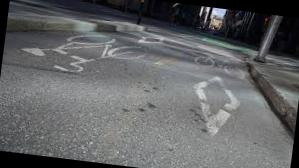faded_road_lines: (12, 16, 153, 92), (178, 68, 246, 142), (176, 42, 252, 84), (134, 32, 164, 50)
